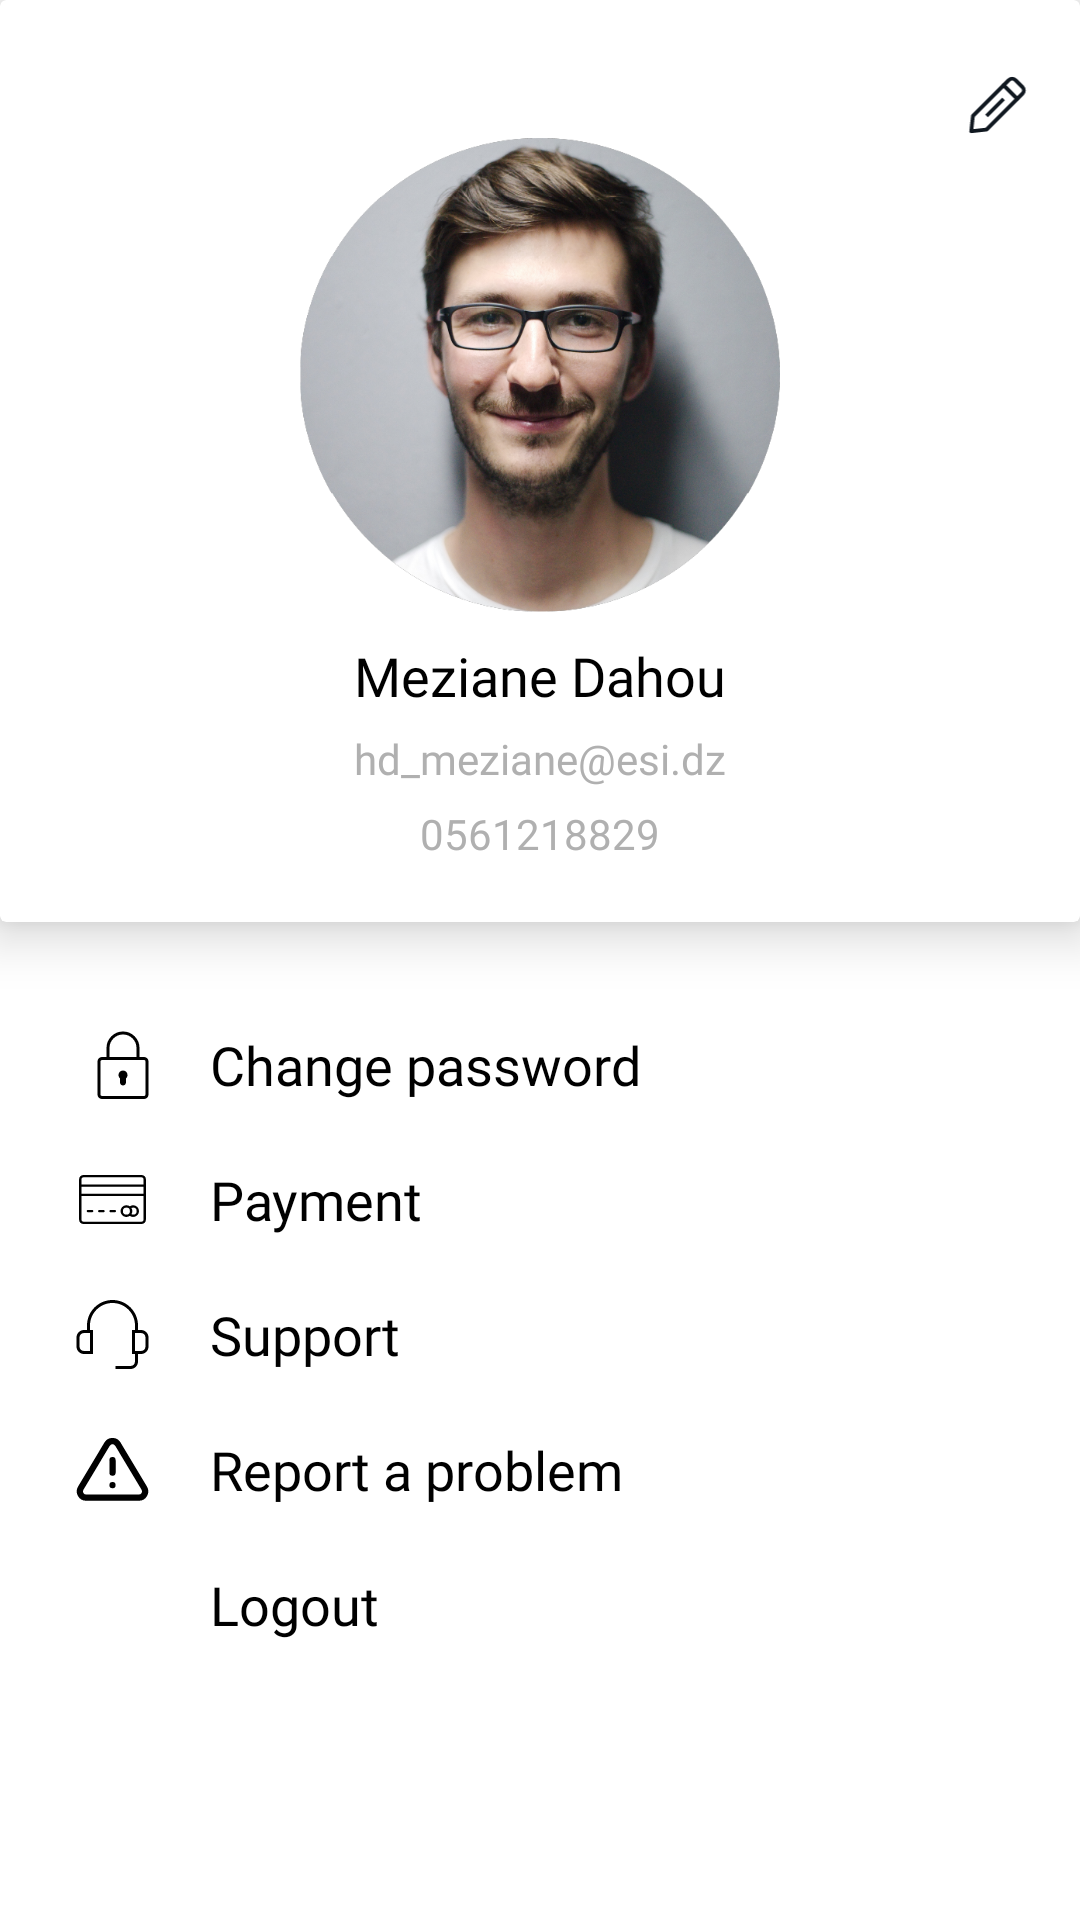

Icons on this 1080 x 1920 Android screen, each with its box as (x1, y1, x2, y2):
alert: (76, 1438, 149, 1501)
credit card: (79, 1175, 146, 1224)
edit: (969, 77, 1026, 133)
lock: (97, 1031, 149, 1099)
